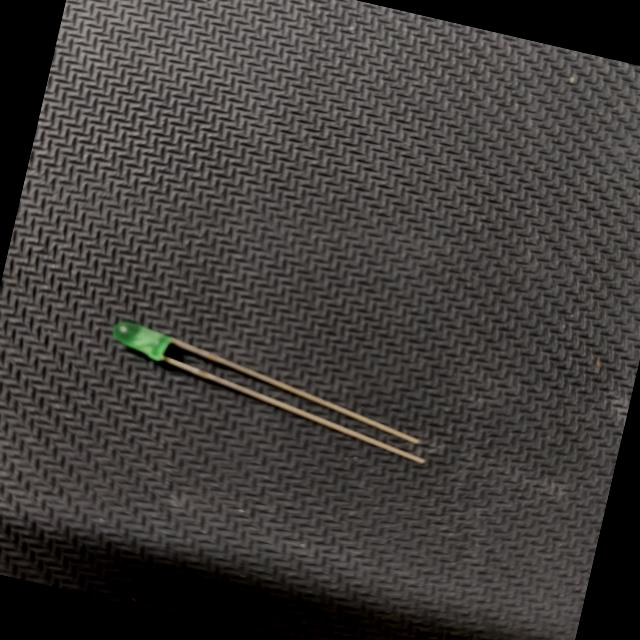led: (80, 304, 452, 474)
